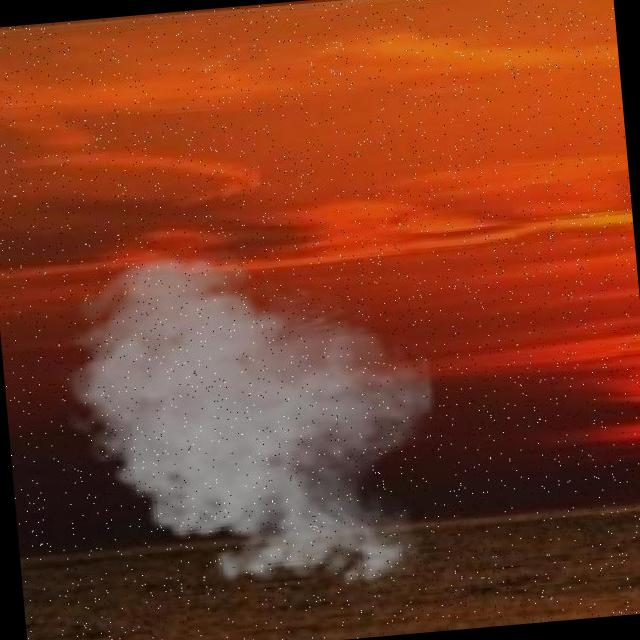Smoke: (45, 244, 467, 610)
